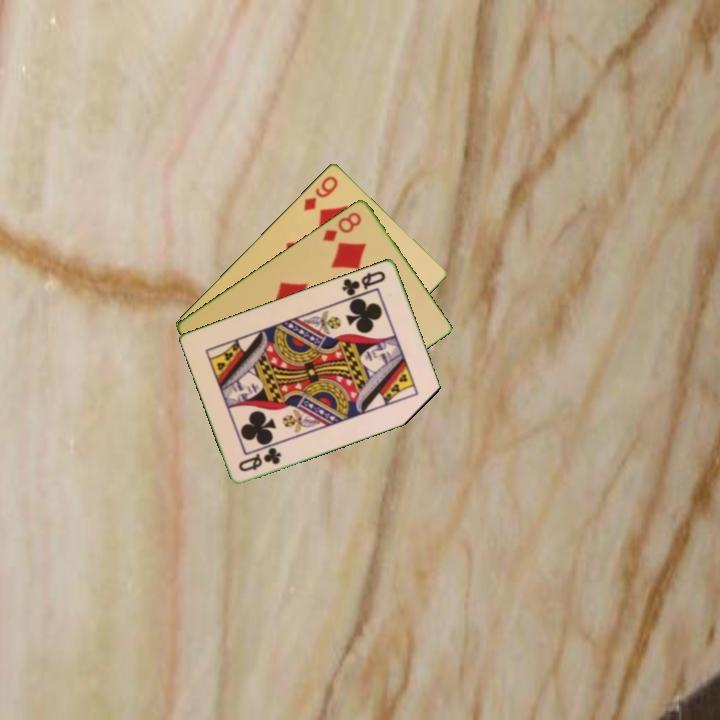8d: (319, 208, 364, 244)
9d: (300, 172, 341, 213)
Qc: (338, 267, 389, 298), (235, 444, 285, 474)
